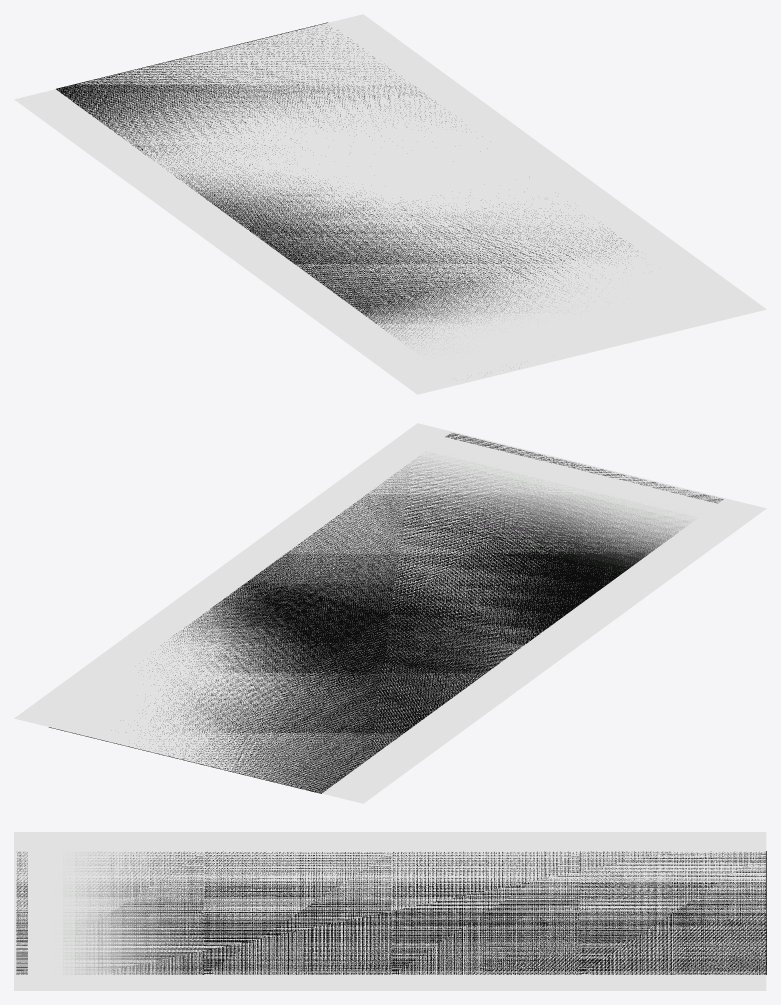
Rendered from skilltips_changfang.FBX.
The picture shows the model from 3 angles, top to bottom: view 1: azimuth 30°, elevation 25°; view 2: azimuth 150°, elevation 25°; view 3: azimuth 270°, elevation 25°; orthographic projection. The views are drawn at different scales.
Visible parts, largest first — view 1: 1_1, 2_1; view 2: 1_1, 2_1; view 3: 1_1, 2_1.
Part boxes in pixels (x1,y1,x2,y2): 1_1: (14, 14, 766, 394); 2_1: (56, 22, 630, 367); 1_1: (14, 423, 766, 803); 2_1: (49, 433, 723, 793); 1_1: (14, 832, 766, 990); 2_1: (16, 851, 766, 974).
Bounding box in the file's own units: 0.5 × 6.16e-17 × 1.
2 materials, 2 textured.
